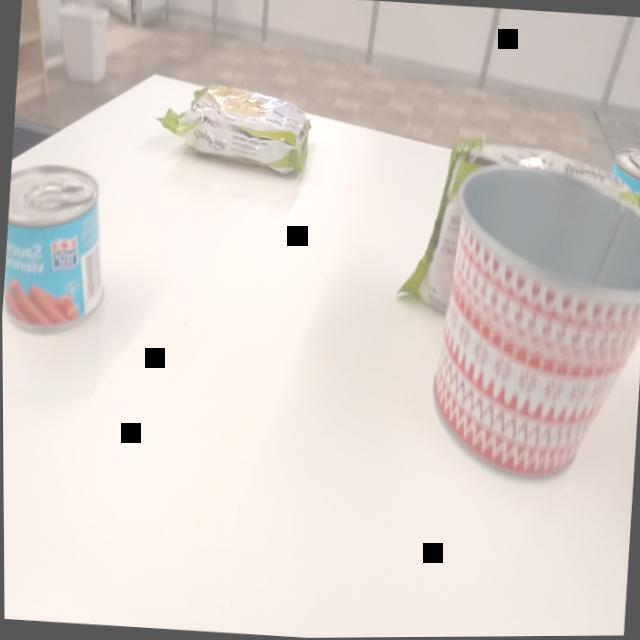noodles: (150, 77, 317, 185)
sausages: (1, 156, 117, 347)
